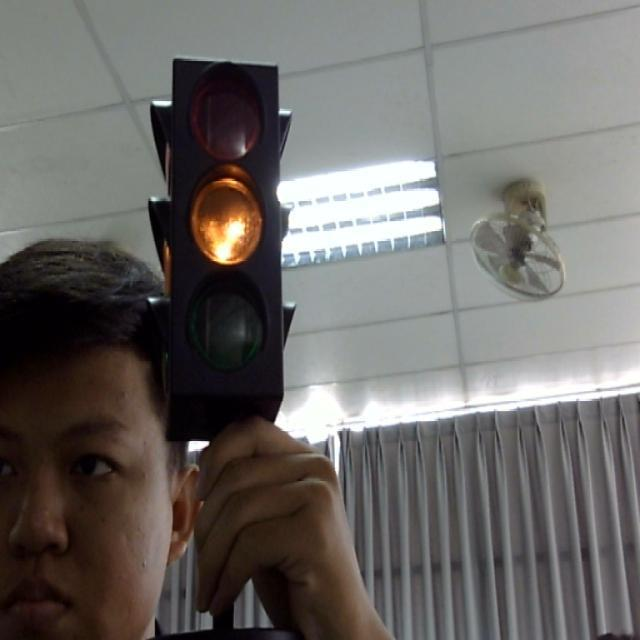yellow_light: (139, 43, 305, 433)
